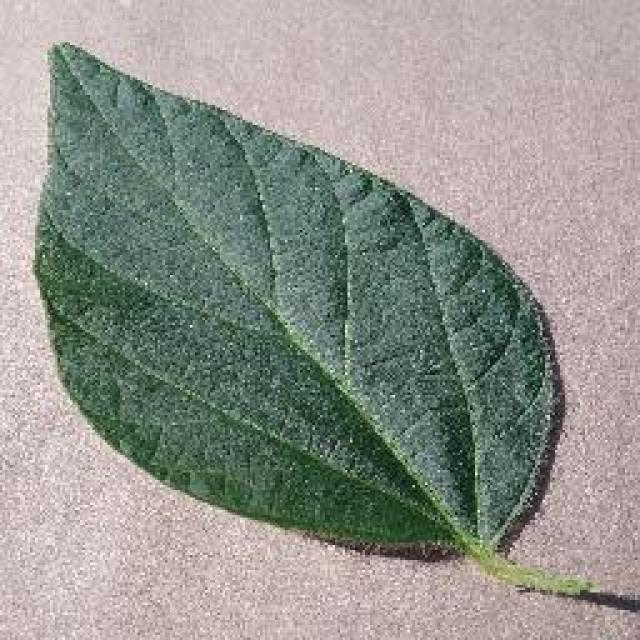Soy_healthy: (32, 78, 547, 507)
